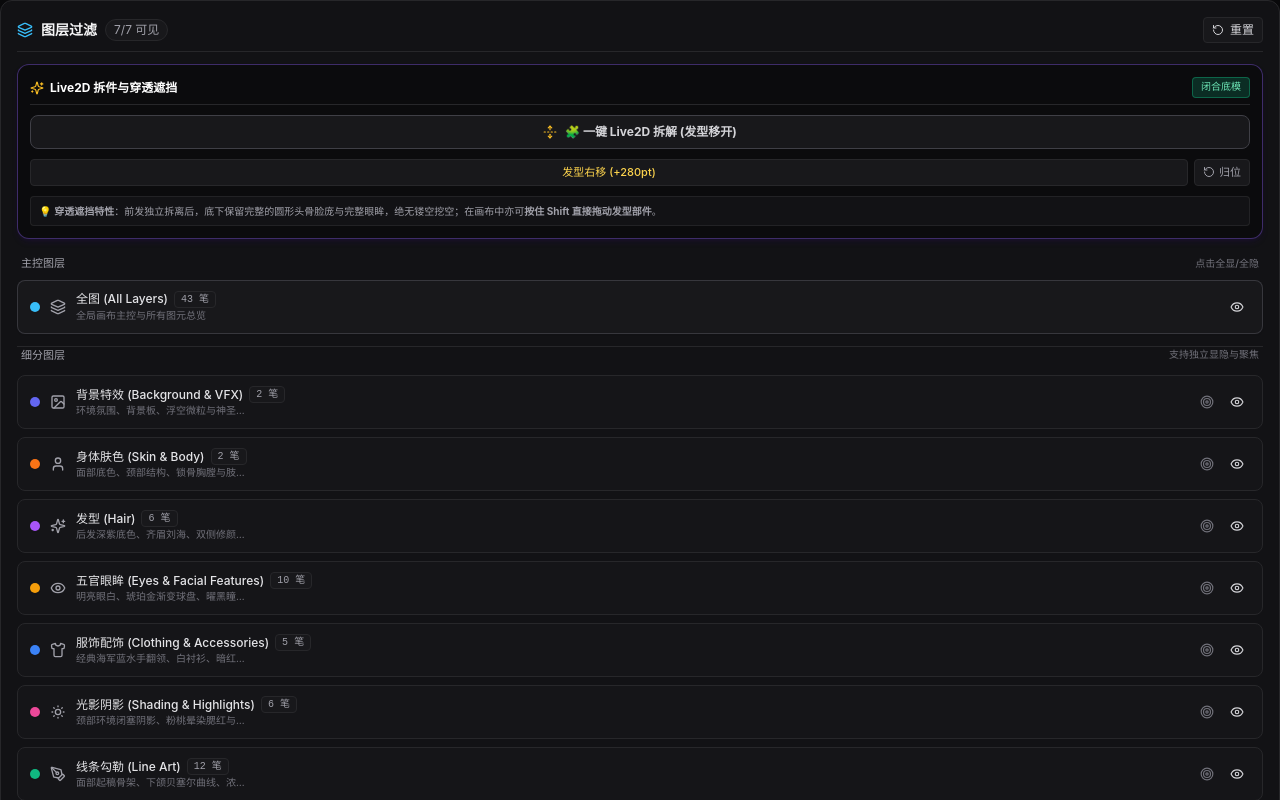
Live2D Flagship Suite: 幻梦航标 · 德奥欣 (Deocin Dissection & Occlusion Masterpiece) › 4. UI Studio & Header & Chat Integration › LayerFilterPanel contains 1-click explode toggle button and quick presets
The image size is (1280, 800).
Expected: the text "Live2D 拆件与穿透遮挡" is shown, 50,80 -> 177,96
What coordinates should you click on to do the following:
click the button with test id "toggle-live2d-explode-button"
I would click on:
 (640, 132)
Its box is 30,115 -> 1250,149.
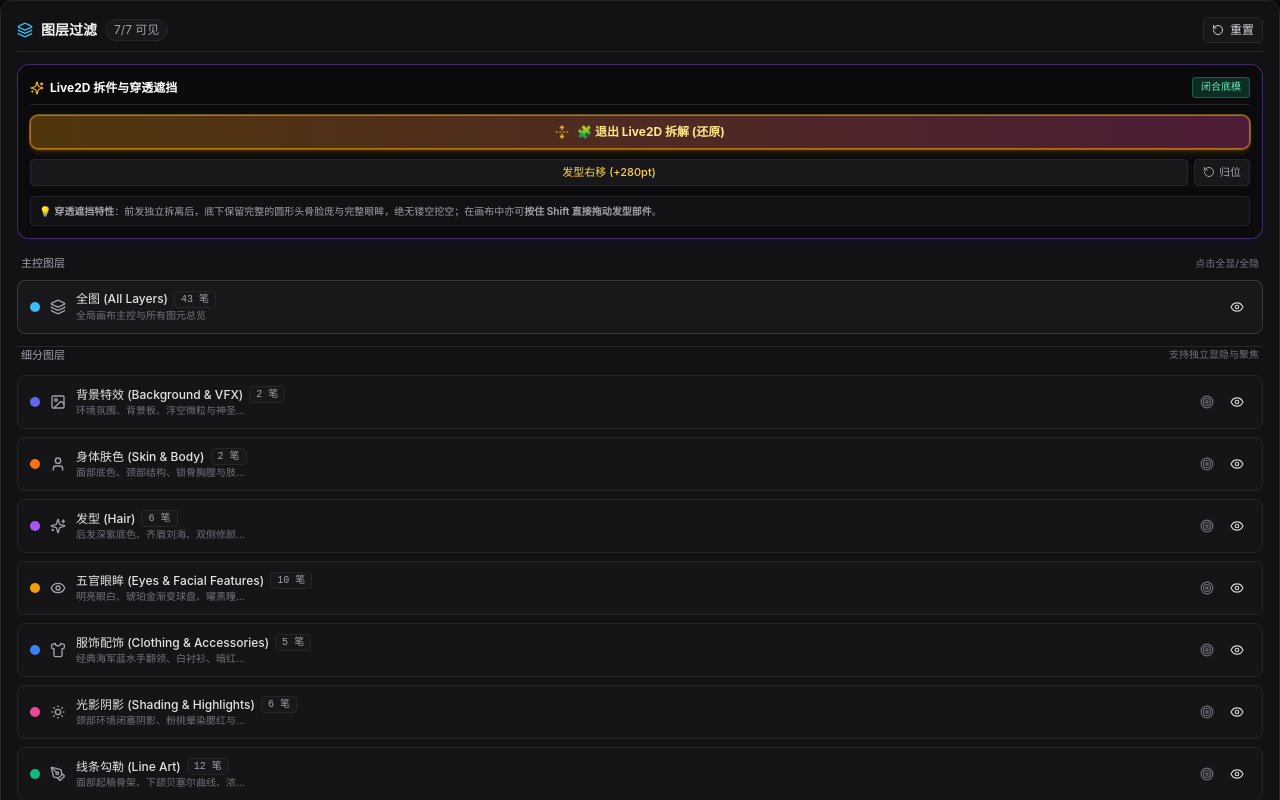
Now the text "🧩 退出 Live2D 拆解 (还原)" is shown, box 577,124 -> 725,140
